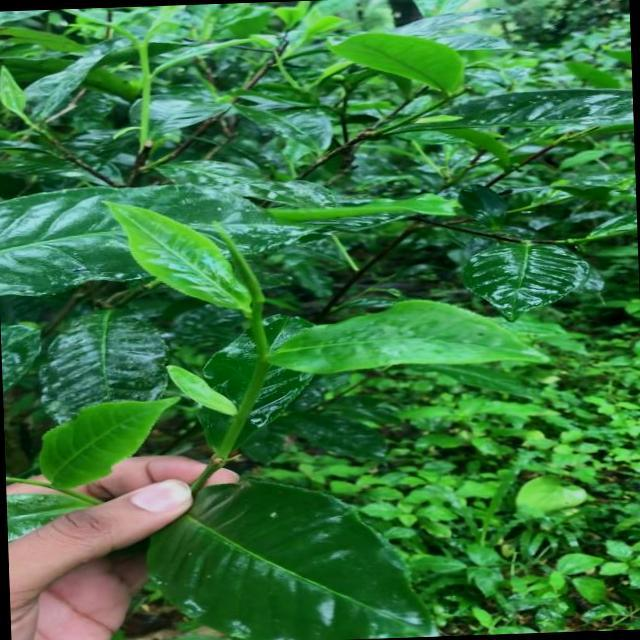Stem: (253, 360, 271, 377)
